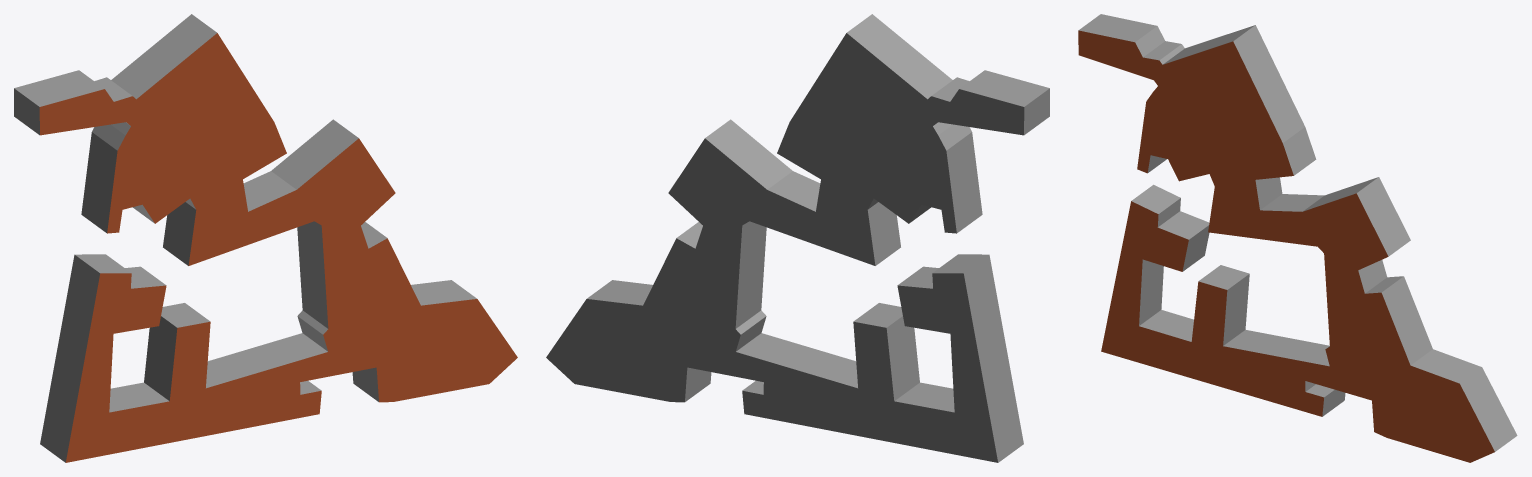
The model's file is construction_0498_assumed_A_Casa_h6m.obj.
The picture shows the model from 3 angles, left to right: view 1: azimuth 30°, elevation 25°; view 2: azimuth 150°, elevation 25°; view 3: azimuth 330°, elevation 25°; orthographic projection. The views are drawn at different scales.
Visible parts, largest first — view 1: construction_0498_assumed_A_Casa; view 2: construction_0498_assumed_A_Casa; view 3: construction_0498_assumed_A_Casa.
Boxes of the visible parts, x1,y1,x2,y2 form: construction_0498_assumed_A_Casa: (14,14,517,462); construction_0498_assumed_A_Casa: (546,14,1049,462); construction_0498_assumed_A_Casa: (1078,14,1517,462).
Bounding box in the file's own units: 64.31 × 53.66 × 6.
